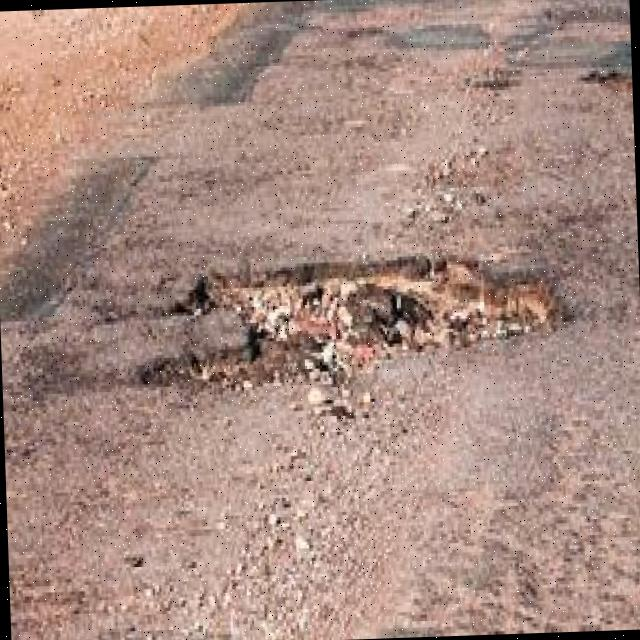road collapse: (0, 105, 622, 572)
